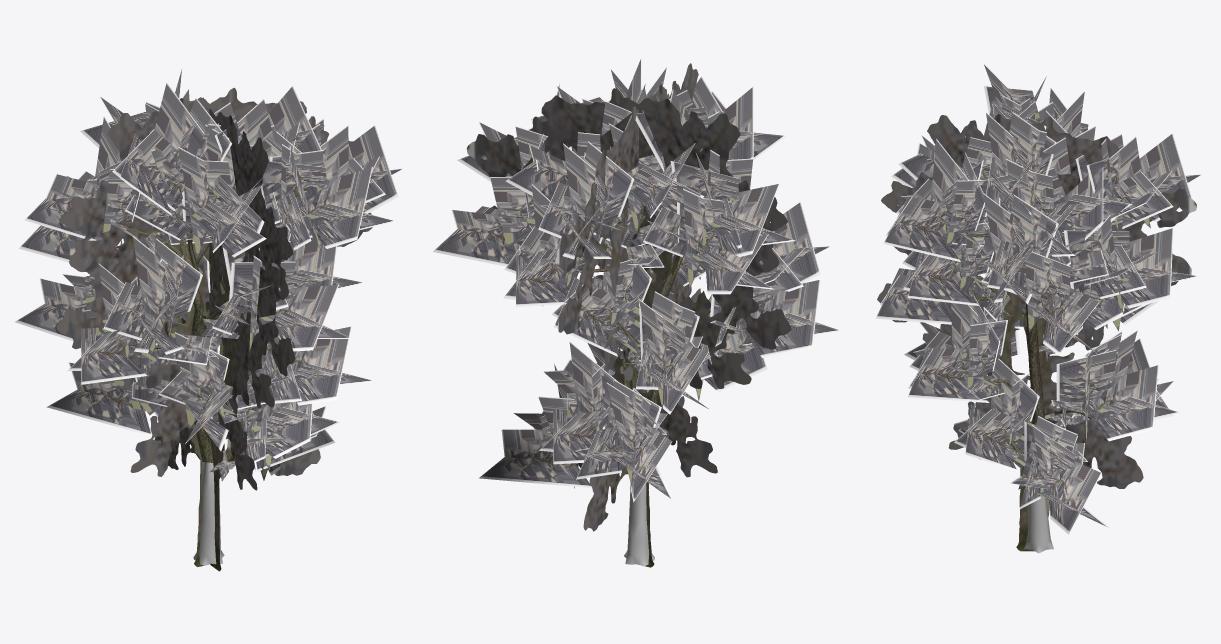
File: Tree-Oak1D.fbx
3 renders of one model, left to right at view 1: azimuth 30°, elevation 25°; view 2: azimuth 150°, elevation 25°; view 3: azimuth 270°, elevation 25°, orthographic. The views are drawn at different scales.
Visible parts, largest first — view 1: Tree-Oak1D_LOD0, Billboard-Oak1C; view 2: Tree-Oak1D_LOD0, Billboard-Oak1C; view 3: Tree-Oak1D_LOD0, Billboard-Oak1C.
Boxes of the visible parts, x1,y1,x2,y2 form: Tree-Oak1D_LOD0: (15,68,402,565); Billboard-Oak1C: (57,87,372,571); Tree-Oak1D_LOD0: (433,58,840,566); Billboard-Oak1C: (466,63,791,567); Tree-Oak1D_LOD0: (875,64,1202,553); Billboard-Oak1C: (877,114,1196,551).
Size of what is drawn, in the model's own units: 1929 by 2549 by 1664.
